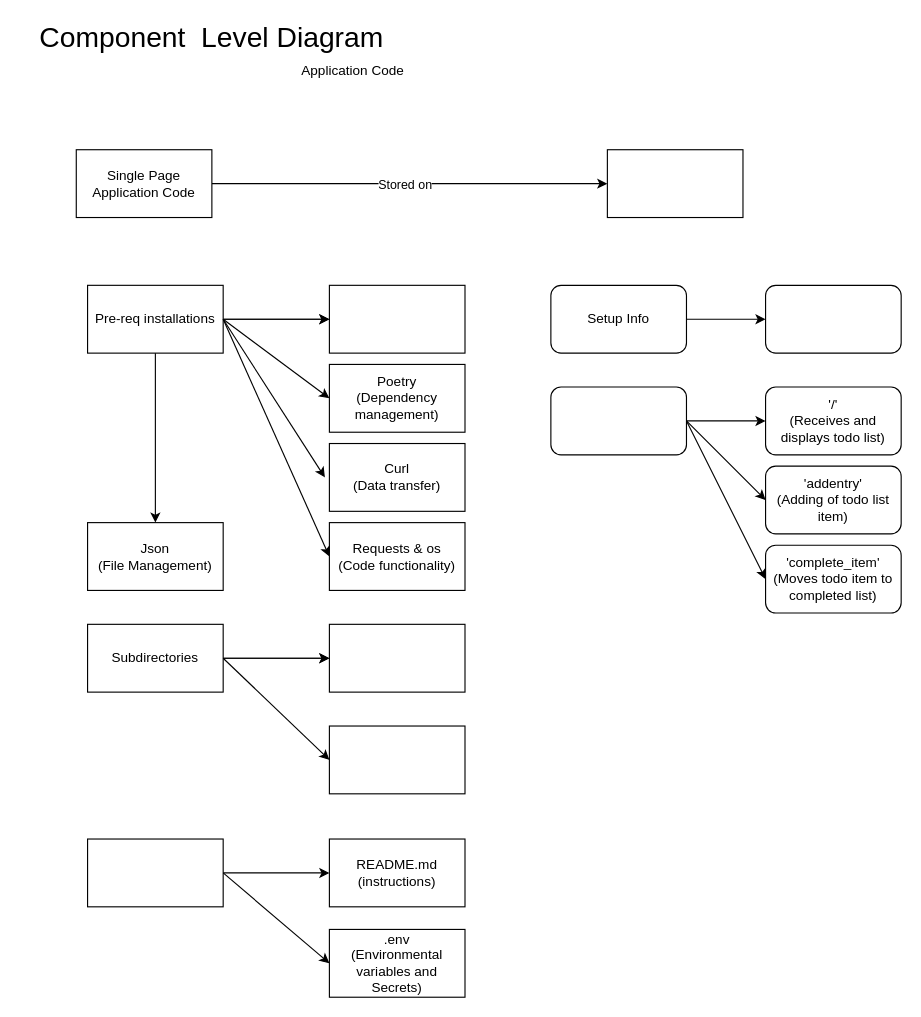
The diagram is 921 pixels wide and 1017 high, and some of its shapes have lost their labels. Each missing label, with the centre of its shape:
Additional Program Files: (154,872)
CODE: @app.route: (618,420)
GITHUB: (674,183)
Imports pre-requisites, sets up variables: (832,318)
Models (UK Content): (396,657)
Python (Main code): (396,318)
Templates (HTML layout): (396,759)
